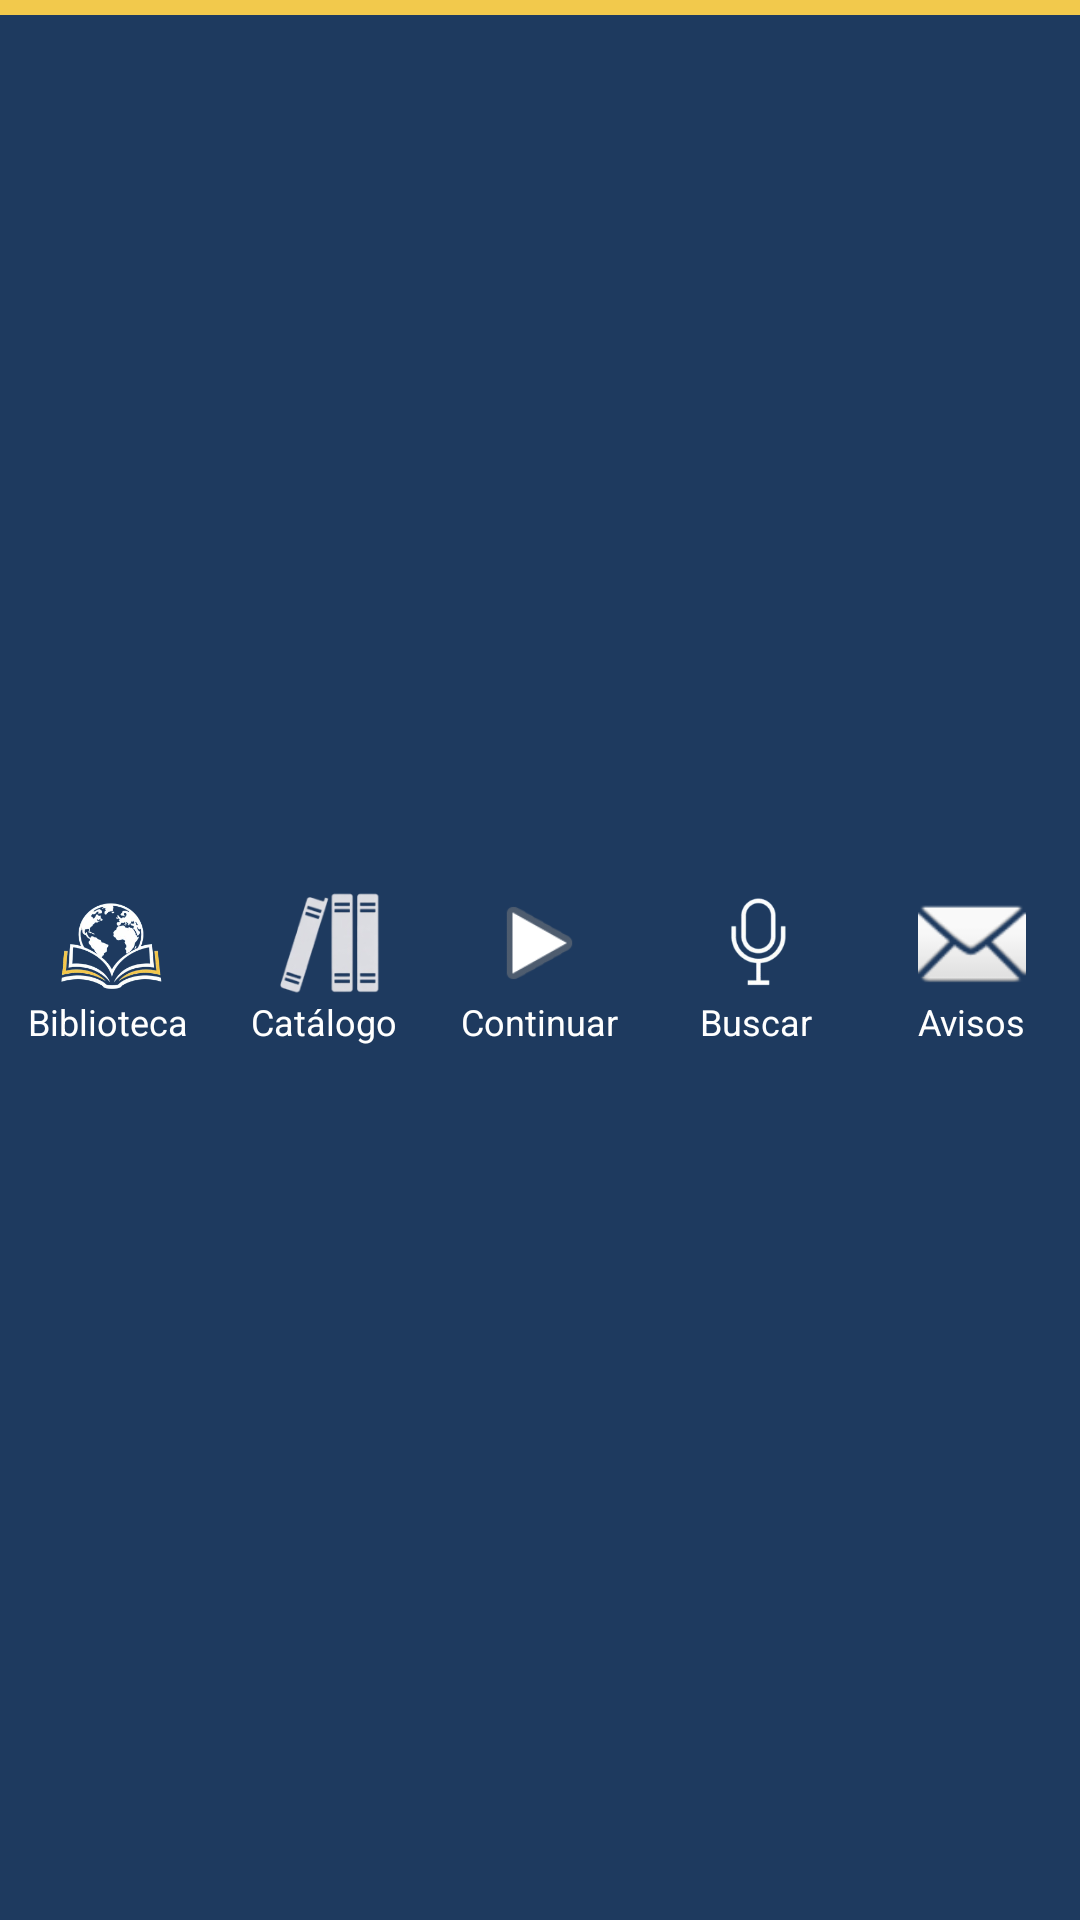

Named icons in this screenshot (1080px x 1920px) and their centers, (x=x, y=y):
email: (x=972, y=944)
microfono: (x=758, y=941)
play: (x=539, y=943)
